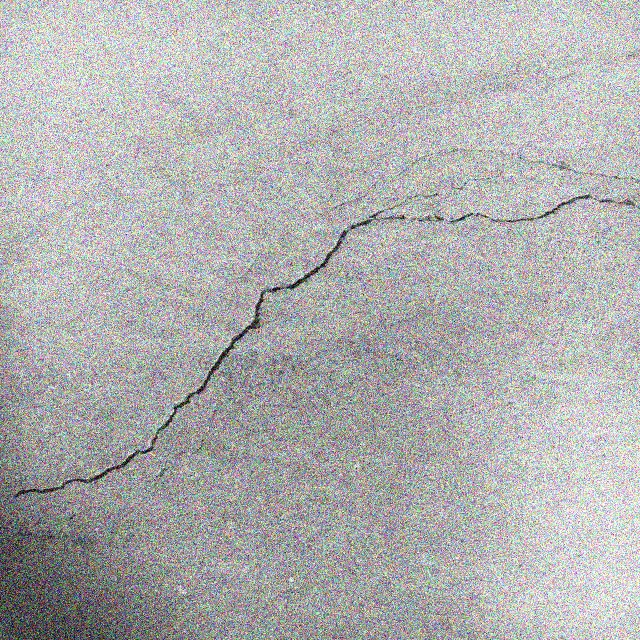SurfaceCrack: (0, 152, 639, 552)
